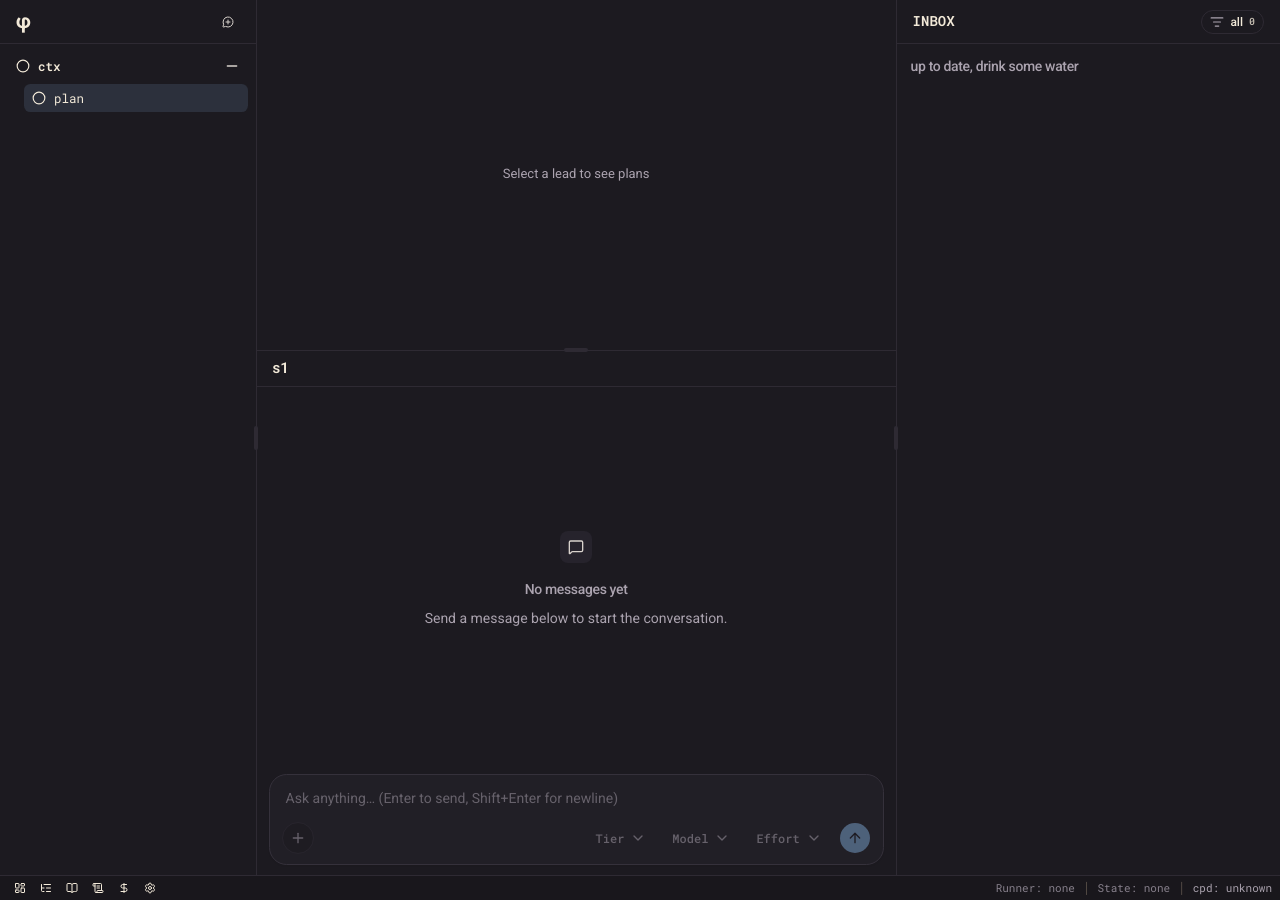
Test case: selecting a Manager session shows the ManagerView in the Plan pane
Click the button "ctx".
click(128, 66)  # box [8,50,248,82]
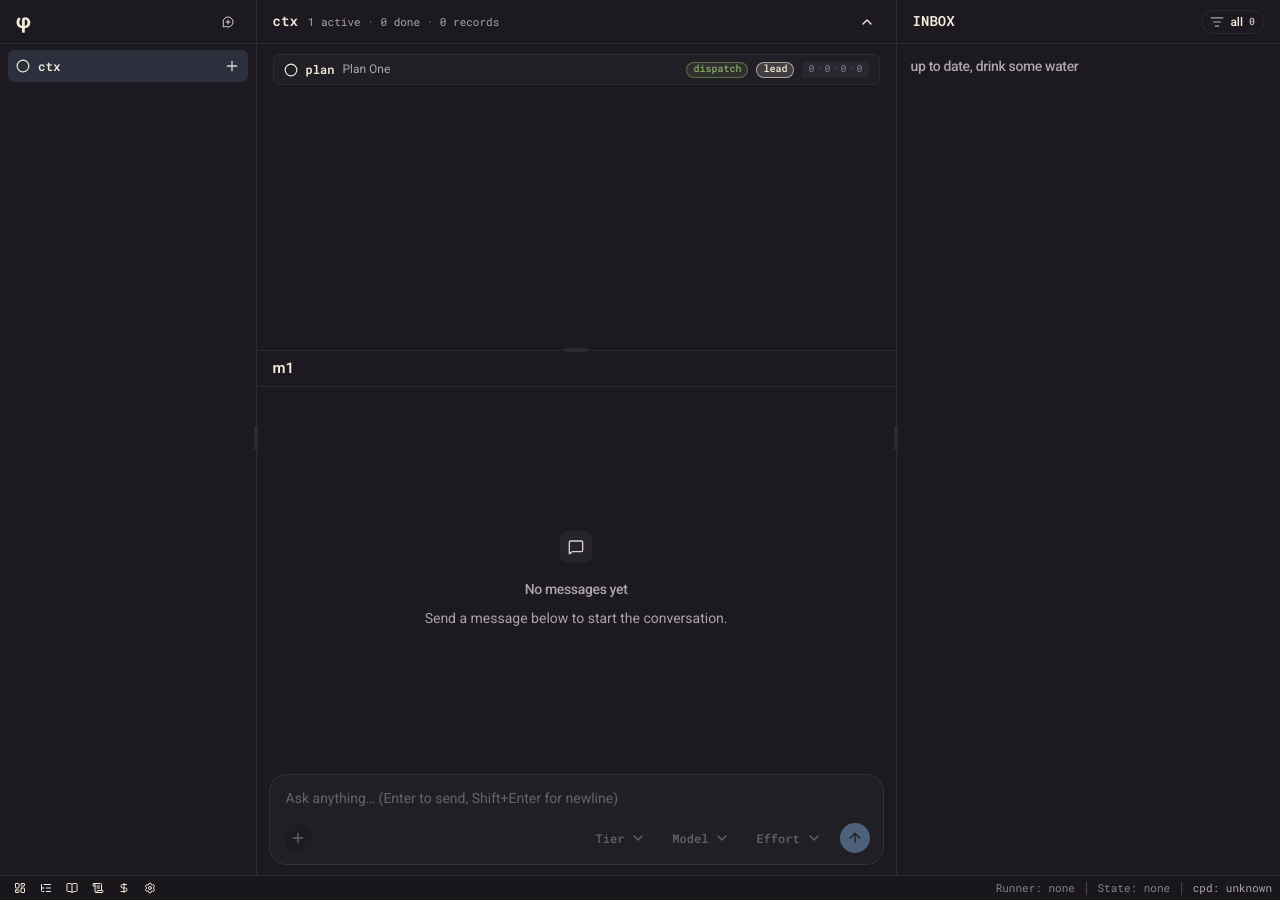
Check: the element named "Manager overview ctx" is shown, box [257,0,896,85]
Check: the list item "plan Plan One dispatch lead 0 · 0 · 0 · 0" is shown, box [273,54,880,85]
